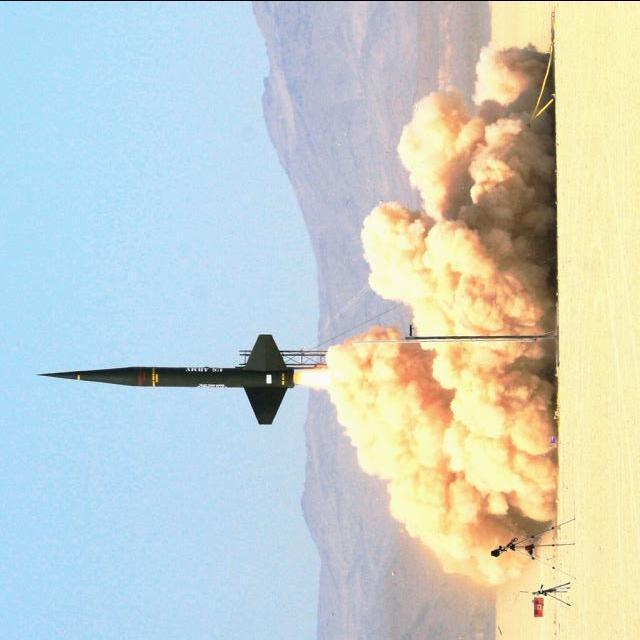missile: (40, 334, 300, 428)
